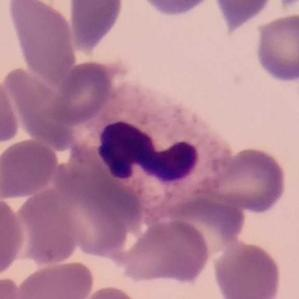Neutrophil: (82, 84, 242, 211)
RBC: (34, 174, 138, 260), (113, 216, 213, 287), (202, 145, 290, 215), (6, 0, 78, 83), (13, 186, 83, 268), (47, 58, 116, 126), (210, 240, 284, 299), (0, 136, 60, 199), (13, 257, 96, 299), (252, 12, 299, 84), (66, 0, 127, 55), (0, 193, 27, 280), (212, 0, 277, 32), (0, 72, 21, 149), (135, 0, 217, 18), (70, 283, 146, 299), (0, 273, 28, 298)
